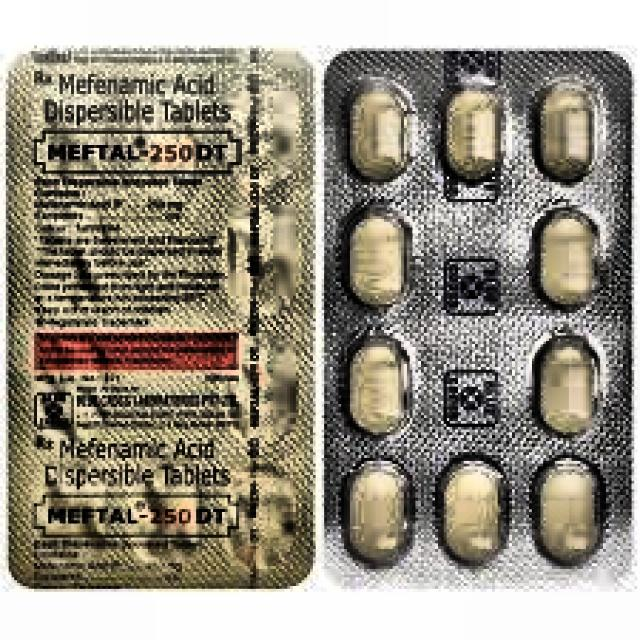Meftal: (21, 124, 263, 185)
